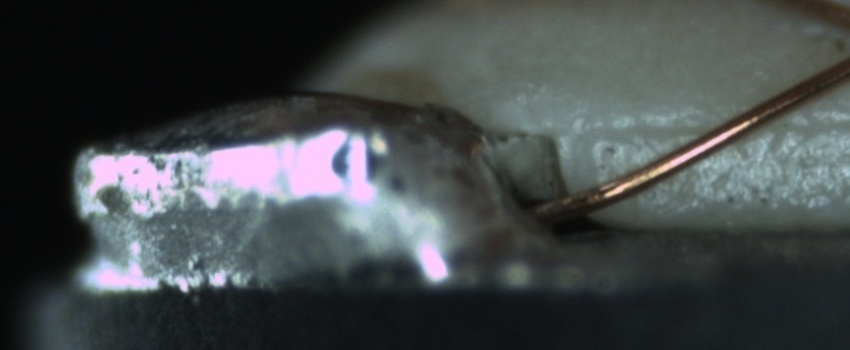DL: (599, 94, 849, 160)
